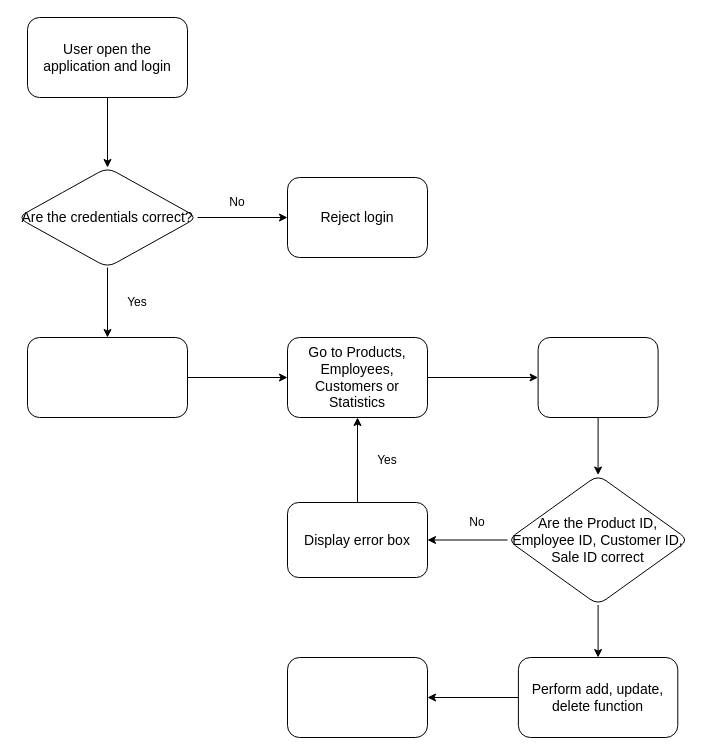
Some shapes in this 707 by 755 pixel diagram are drawn without their labels. Here are the shapes that lost their labels. From the top down, the centre of each, then its label:
At point 107,377: "Go to dashboard".
At point 597,377: "Enter information".
At point 357,697: "Exit to main menu and return to update datagridview".
